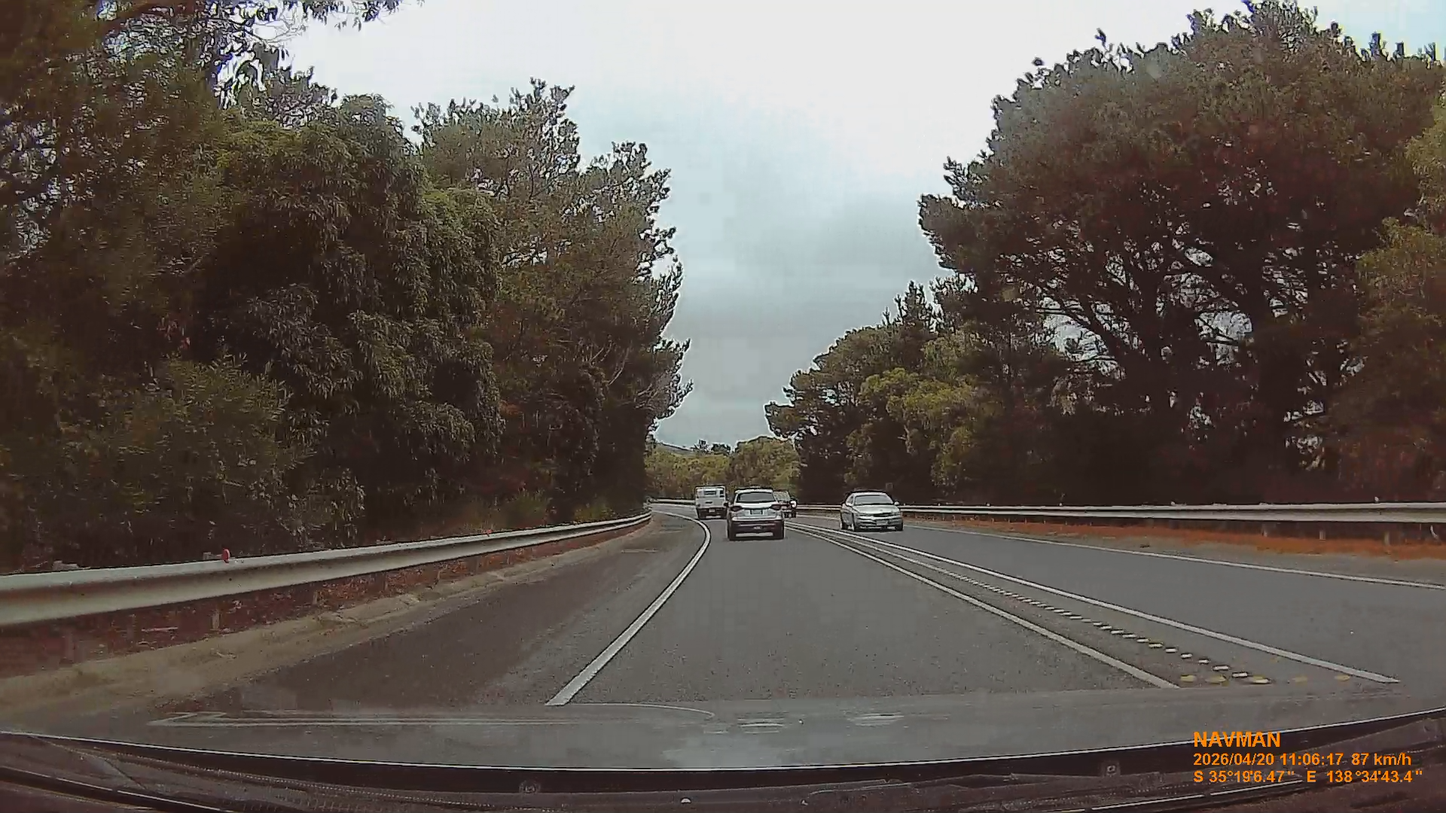road barriers: (0, 515, 649, 626), (905, 505, 1445, 559)
